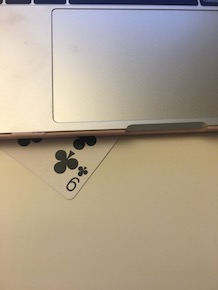NineOfClubs: (1, 115, 137, 205)
